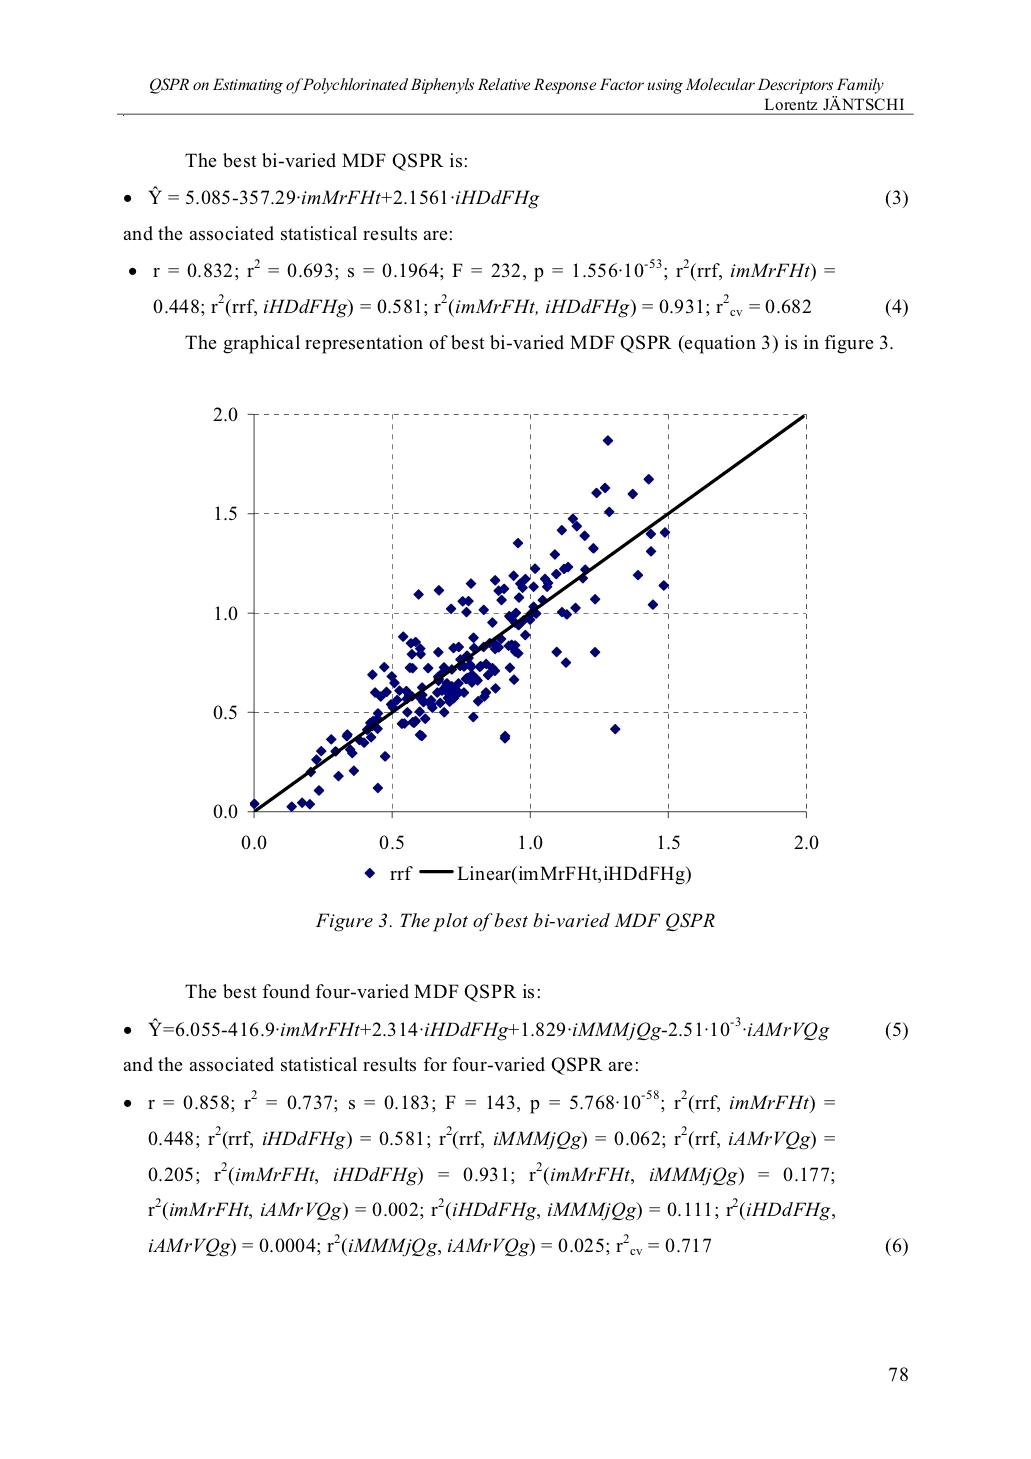figure: (213, 407, 818, 849)
formula: (148, 1231, 907, 1257), (153, 292, 907, 318), (124, 1016, 907, 1041), (124, 1088, 834, 1114), (124, 185, 907, 209), (129, 258, 834, 282), (148, 1125, 834, 1150), (148, 1161, 834, 1186), (148, 1197, 834, 1221)
